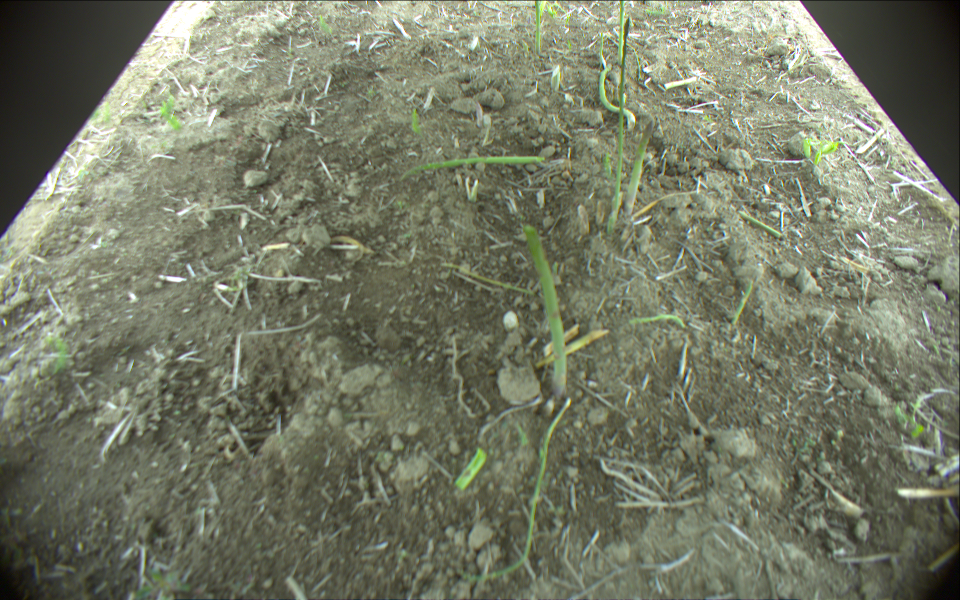aspa: (522, 224, 571, 397), (595, 29, 636, 131), (613, 17, 633, 218), (400, 157, 546, 183), (624, 119, 657, 221), (452, 447, 488, 490), (617, 1, 625, 61), (535, 1, 541, 51)
